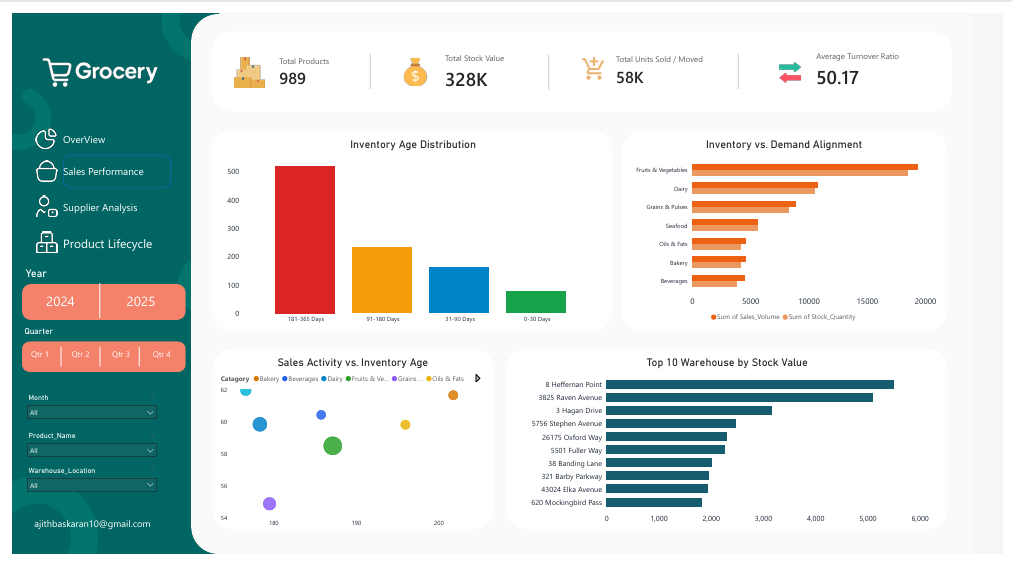

Layout of this report page (visuals, bound fields, positions):
{"tool":"powerbi","page":{"name":"Product Lifecycle","canvas":[1980,1080],"ordinal":3},"visuals":[{"type":"shape","box":[357.8,0,1561.4,1080],"z":0},{"type":"cardVisual","fields":{"Data":["Sum(Grocery_Inventory.Sales_Volume)"]},"box":[1177.6,41.2,273.3,143.1],"z":0,"group":"g2"},{"type":"cardVisual","fields":{"Data":["Key Measures.Total Products"]},"box":[505.3,45.5,210.4,138.8],"z":0,"group":"g1"},{"type":"cardVisual","fields":{"Data":["Key Measures.Average Turnover Ratio"]},"box":[1577.6,45.5,242.9,132.3],"z":0,"group":"g4"},{"type":"cardVisual","fields":{"Data":["Key Measures.Total Stock Value"]},"box":[836.8,54.2,195.5,123.6],"z":0,"group":"g3"},{"type":"shape","box":[399,34.7,1479,160.5],"z":1000},{"type":"image","box":[1128.6,84.1,67.2,52],"z":1000,"group":"g2"},{"type":"image","box":[776.4,85.1,60.4,61.8],"z":1000,"group":"g3"},{"type":"image","box":[441.4,87.7,69.4,60.7],"z":1000,"group":"g1"},{"type":"image","box":[1533.3,95.4,43.4,43.4],"z":2000},{"type":"group","id":"g1","title":"Group 1","box":[441.4,45.5,274.2,138.8],"z":3000},{"type":"group","id":"g2","title":"Group 3","box":[1128.6,41.2,322.3,143.1],"z":4000},{"type":"group","id":"g3","title":"Group 2","box":[776.4,54.2,255.9,123.6],"z":5000},{"type":"group","id":"g4","title":"Group 4","box":[1577.6,45.5,242.9,132.3],"z":6000},{"type":"shape","box":[676.6,80.2,78.1,69.4],"z":7000},{"type":"shape","box":[1411.8,80.2,78.1,69.4],"z":8000},{"type":"shape","box":[1032.3,82.4,80.2,69.4],"z":9000},{"type":"shape","box":[399,234.2,800.2,401.2],"z":10000},{"type":"shape","box":[1218.8,234.2,650.6,401.2],"z":11000},{"type":"shape","box":[401.2,670.1,559.5,360],"z":12000},{"type":"shape","box":[988.9,670.1,880.5,360],"z":13000},{"type":"image","box":[26,17.3,299.3,199.5],"z":14000},{"type":"image","box":[34.7,227.7,67.2,43.4],"z":15000},{"type":"image","box":[47.7,292.8,43.4,43.4],"z":16000},{"type":"image","box":[47.7,362.2,43.4,45.5],"z":17000},{"type":"image","box":[47.7,435.9,43.4,43.4],"z":18000},{"type":"shape","box":[19.5,654.9,327.5,60.7],"z":19000},{"type":"advancedSlicerVisual","fields":{"Values":["Grocery_Inventory.Date_Received.Variation.Date Hierarchy.Quarter"]},"box":[19.5,624.6,327.5,91.1],"z":20000},{"type":"shape","box":[58.6,665.8,78.1,39],"z":21000},{"type":"shape","box":[136.6,665.8,78.1,39],"z":22000},{"type":"shape","box":[214.7,665.8,78.1,39],"z":23000},{"type":"slicer","fields":{"Values":["Grocery_Inventory.Date_Received.Variation.Date Hierarchy.Month"]},"box":[19.5,754.7,279.8,69.4],"z":24000},{"type":"slicer","fields":{"Values":["Grocery_Inventory.Product_Name"]},"box":[19.5,830.6,279.8,69.4],"z":25000},{"type":"textbox","box":[10.8,1001.9,299.3,56.4],"z":26000},{"type":"clusteredColumnChart","title":"Inventory Age Distribution","fields":{"Category":["Grocery_Inventory.Product Age Group"],"Y":["CountNonNull(Grocery_Inventory.Product_ID)"]},"box":[425.1,249.4,752.5,379.5],"z":27000},{"type":"scatterChart","title":"Sales Activity vs. Inventory Age","fields":{"X":["Avg(Grocery_Inventory.Product Age Days)"],"Y":["Avg(Grocery_Inventory.Sales_Volume)"],"Size":["Sum(Grocery_Inventory.Stock_Quantity)"],"Series":["Grocery_Inventory.Catagory"]},"box":[412,685.3,537.8,351.3],"z":28000},{"type":"clusteredBarChart","title":"Inventory vs. Demand Alignment","fields":{"Category":["Grocery_Inventory.Catagory"],"Y":["Sum(Grocery_Inventory.Sales_Volume)","Sum(Grocery_Inventory.Stock_Quantity)"]},"box":[1234,249.4,618.1,375.2],"z":29000},{"type":"slicer","fields":{"Values":["Grocery_Inventory.Warehouse_Location"]},"box":[19.5,900,279.8,69.4],"z":30000},{"type":"shape","box":[101.9,216.9,214.7,65.1],"z":31000},{"type":"shape","box":[101.9,281.9,214.7,65.1],"z":32000},{"type":"shape","box":[101.9,353.5,214.7,65.1],"z":33000},{"type":"shape","box":[101.9,425.1,214.7,65.1],"z":34000},{"type":"clusteredBarChart","title":"Top 10 Warehouse by Stock Value","fields":{"Category":["Grocery_Inventory.Warehouse_Location"],"Y":["Key Measures.Total Stock Value"]},"box":[1021.4,685.3,815.4,344.8],"z":35000},{"type":"shape","box":[19.5,540,327.5,71.6],"z":35001},{"type":"group","id":"g5","title":"Group 5","box":[21.7,507.5,325.3,106.8],"z":35002},{"type":"advancedSlicerVisual","fields":{"Values":["Grocery_Inventory.Date_Received.Variation.Date Hierarchy.Year"]},"box":[21.7,507.5,325.3,106.8],"z":37000,"group":"g5"},{"type":"shape","box":[135.2,539,80.2,69.4],"z":38000,"group":"g5"}]}

Visuals, with their boxes in screenshot pixels (x1, y1, x2, y2), scaled from the page's 1980x1080 canvas onto the 1012x561 screenshot:
shape: detection(183, 0, 981, 560)
cardVisual - Sum(Grocery_Inventory.Sales_Volume): detection(602, 21, 742, 96)
cardVisual - Key Measures.Total Products: detection(258, 24, 366, 96)
cardVisual - Key Measures.Average Turnover Ratio: detection(806, 24, 930, 92)
cardVisual - Key Measures.Total Stock Value: detection(428, 28, 528, 92)
shape: detection(204, 18, 960, 101)
image: detection(577, 44, 611, 71)
image: detection(397, 44, 428, 76)
image: detection(226, 46, 261, 77)
image: detection(784, 50, 806, 72)
"Group 1" group: detection(226, 24, 366, 96)
"Group 3" group: detection(577, 21, 742, 96)
"Group 2" group: detection(397, 28, 528, 92)
"Group 4" group: detection(806, 24, 930, 92)
shape: detection(346, 42, 386, 78)
shape: detection(722, 42, 762, 78)
shape: detection(528, 43, 569, 79)
shape: detection(204, 122, 613, 330)
shape: detection(623, 122, 955, 330)
shape: detection(205, 348, 491, 535)
shape: detection(505, 348, 955, 535)
image: detection(13, 9, 166, 113)
image: detection(18, 118, 52, 141)
image: detection(24, 152, 47, 175)
image: detection(24, 188, 47, 212)
image: detection(24, 226, 47, 249)
shape: detection(10, 340, 177, 372)
advancedSlicerVisual - Grocery_Inventory.Date_Received.Variation.Date Hierarchy.Quarter: detection(10, 324, 177, 372)
shape: detection(30, 346, 70, 366)
shape: detection(70, 346, 110, 366)
shape: detection(110, 346, 150, 366)
slicer - Grocery_Inventory.Date_Received.Variation.Date Hierarchy.Month: detection(10, 392, 153, 428)
slicer - Grocery_Inventory.Product_Name: detection(10, 431, 153, 468)
textbox: detection(6, 520, 158, 550)
"Inventory Age Distribution" clusteredColumnChart: detection(217, 130, 602, 327)
"Sales Activity vs. Inventory Age" scatterChart: detection(211, 356, 485, 538)
"Inventory vs. Demand Alignment" clusteredBarChart: detection(631, 130, 947, 324)
slicer - Grocery_Inventory.Warehouse_Location: detection(10, 468, 153, 504)
shape: detection(52, 113, 162, 146)
shape: detection(52, 146, 162, 180)
shape: detection(52, 184, 162, 217)
shape: detection(52, 221, 162, 255)
"Top 10 Warehouse by Stock Value" clusteredBarChart: detection(522, 356, 939, 535)
shape: detection(10, 280, 177, 318)
"Group 5" group: detection(11, 264, 177, 319)
advancedSlicerVisual - Grocery_Inventory.Date_Received.Variation.Date Hierarchy.Year: detection(11, 264, 177, 319)
shape: detection(69, 280, 110, 316)
